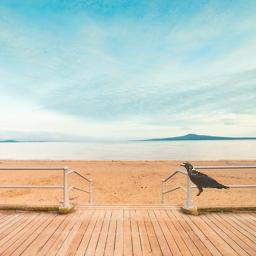Crow: (179, 162, 231, 197)
